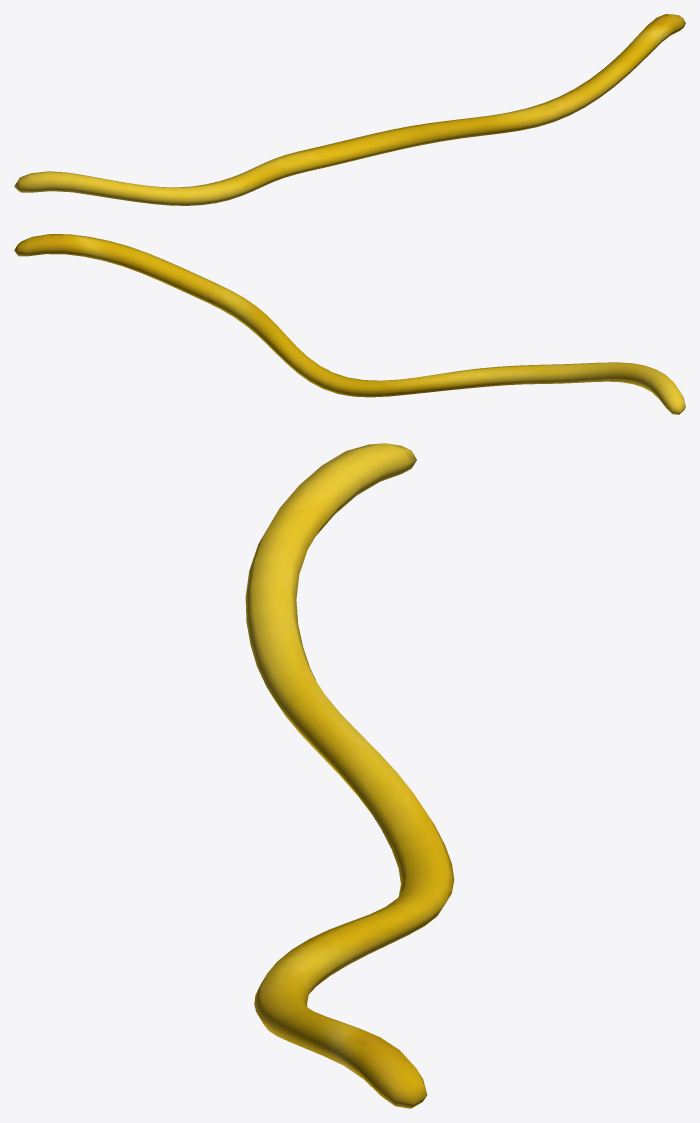
Rendered from mustardpuddle.obj.
3 views of the same model, one above another, from view 1: azimuth 30°, elevation 25°; view 2: azimuth 150°, elevation 25°; view 3: azimuth 270°, elevation 25° (orthographic). The views are drawn at different scales.
Parts seen in each view (by area): view 1: Mustard; view 2: Mustard; view 3: Mustard.
Part boxes in pixels (x1,y1,x2,y2): Mustard: (14,14,685,205); Mustard: (14,234,685,414); Mustard: (245,443,454,1108).
Bounding box in the file's own units: 2.41 × 0.2581 × 0.3279.
1 material, 1 textured.
